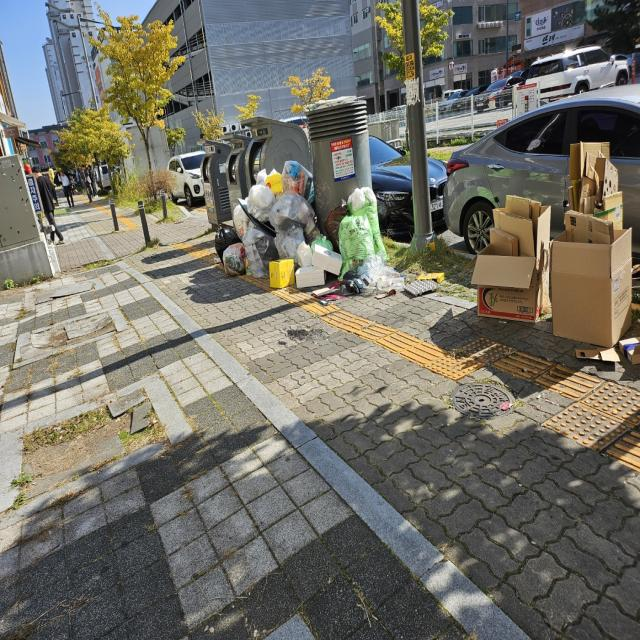CleanNet: (247, 114, 309, 200), (197, 132, 234, 258), (223, 134, 256, 234)
General Waste: (477, 139, 640, 367), (208, 177, 411, 300), (334, 197, 383, 283)
